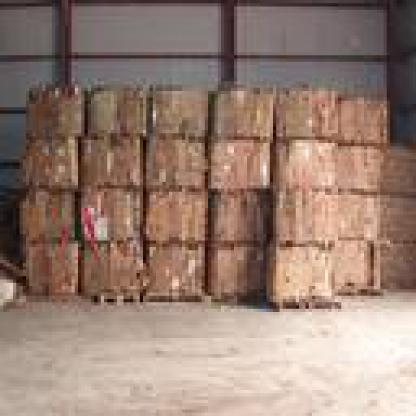CARDBOARD: (266, 185, 328, 244), (22, 81, 84, 140), (74, 237, 140, 292), (136, 240, 204, 292), (204, 84, 270, 136), (74, 185, 140, 237), (75, 136, 143, 186), (264, 244, 328, 296), (140, 188, 204, 240), (270, 136, 332, 188), (204, 136, 266, 188), (143, 81, 205, 133), (270, 84, 334, 134), (143, 134, 201, 188), (205, 240, 263, 292), (85, 81, 143, 133), (208, 192, 263, 244), (20, 237, 74, 289), (20, 140, 78, 188), (16, 192, 75, 237), (335, 94, 387, 143), (328, 237, 377, 286), (335, 143, 380, 192), (380, 143, 413, 198), (332, 195, 374, 237), (377, 240, 413, 286), (377, 195, 413, 237)
